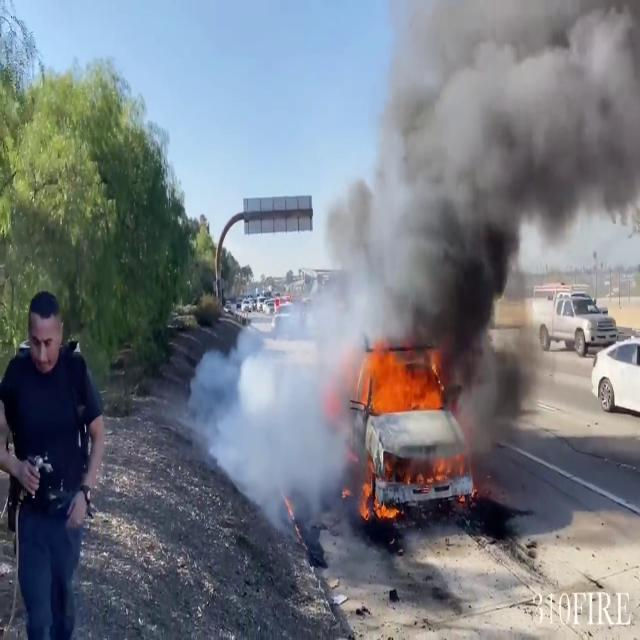Fire: (356, 338, 450, 416)
Smoke: (342, 0, 640, 370), (194, 274, 388, 526)
